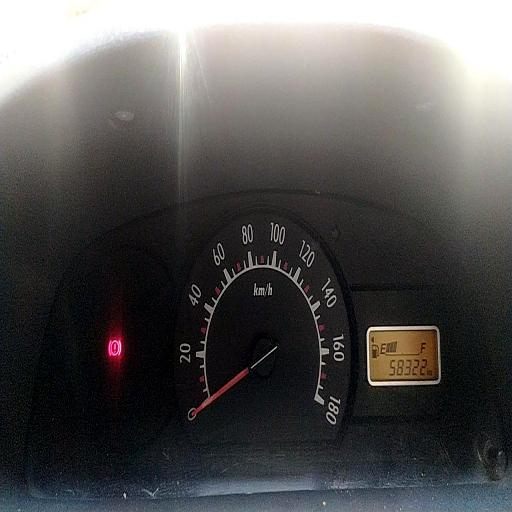brake_system_fault: (109, 339, 121, 356)
